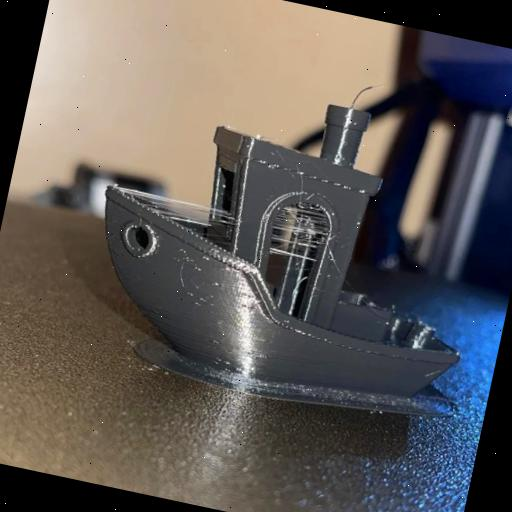stringing: (112, 180, 234, 228), (258, 202, 326, 270)
